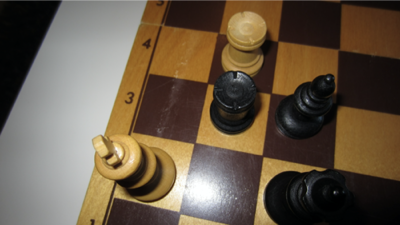black-bishop: (275, 73, 337, 141)
black-queen: (263, 169, 357, 225)
black-rook: (210, 70, 257, 136)
white-king: (92, 133, 177, 203)
white-rook: (221, 11, 268, 79)
